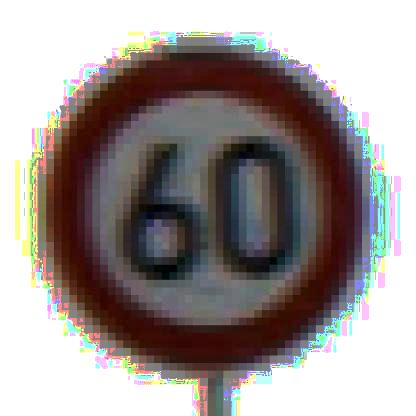Speed Limit -60-: (32, 40, 372, 376)
